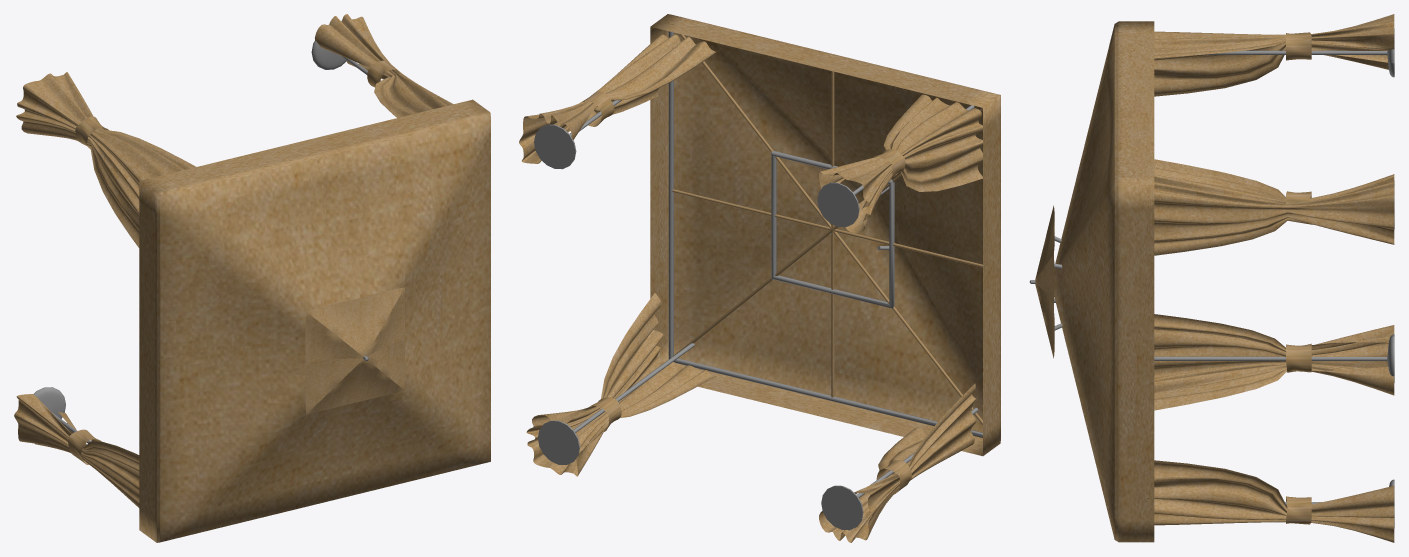
File: Tent02.dae
3 renders of one model, left to right at view 1: azimuth 30°, elevation 25°; view 2: azimuth 150°, elevation 25°; view 3: azimuth 270°, elevation 25°, orthographic.
Visible parts, largest first — view 1: Shape38, Shape37, Line45, Line46, Line47, Line48, Line49; view 2: Shape38, Line45, Line60, Line46, Shape73, Line47, Shape36, Line50, Line48, Line49, Line44; view 3: Shape38, Line46, Line47, Line60, Line45, Shape37, Line48, Line44, Circle02, Circle01, Circle12.
Part boxes in pixels (<box>): Shape38: <box>139,99,490,542</box>; Shape37: <box>305,287,404,414</box>; Line45: <box>16,72,195,247</box>; Line46: <box>315,14,453,117</box>; Line47: <box>14,394,139,507</box>; Line48: <box>33,387,91,443</box>; Line49: <box>311,40,381,80</box>; Shape38: <box>650,14,1000,456</box>; Line45: <box>819,94,982,233</box>; Line60: <box>526,293,716,476</box>; Line46: <box>519,34,721,163</box>; Shape73: <box>668,31,982,437</box>; Line47: <box>819,383,976,542</box>; Shape36: <box>672,34,982,425</box>; Line50: <box>538,343,694,464</box>; Line48: <box>821,407,978,530</box>; Line49: <box>534,100,621,169</box>; Line44: <box>817,105,974,227</box>; Shape38: <box>1054,21,1154,542</box>; Line46: <box>1154,159,1394,255</box>; Line47: <box>1154,314,1394,410</box>; Line60: <box>1147,460,1394,542</box>; Line45: <box>1154,14,1394,96</box>; Shape37: <box>1035,205,1054,358</box>; Line48: <box>1154,334,1394,382</box>; Line44: <box>1201,28,1394,77</box>; Circle02: <box>1286,343,1311,372</box>; Circle01: <box>1286,32,1311,60</box>; Circle12: <box>1286,496,1311,524</box>.
Bounding box in the file's own units: 140 × 123 × 140.
Materials: 2 (1 with a texture image).
